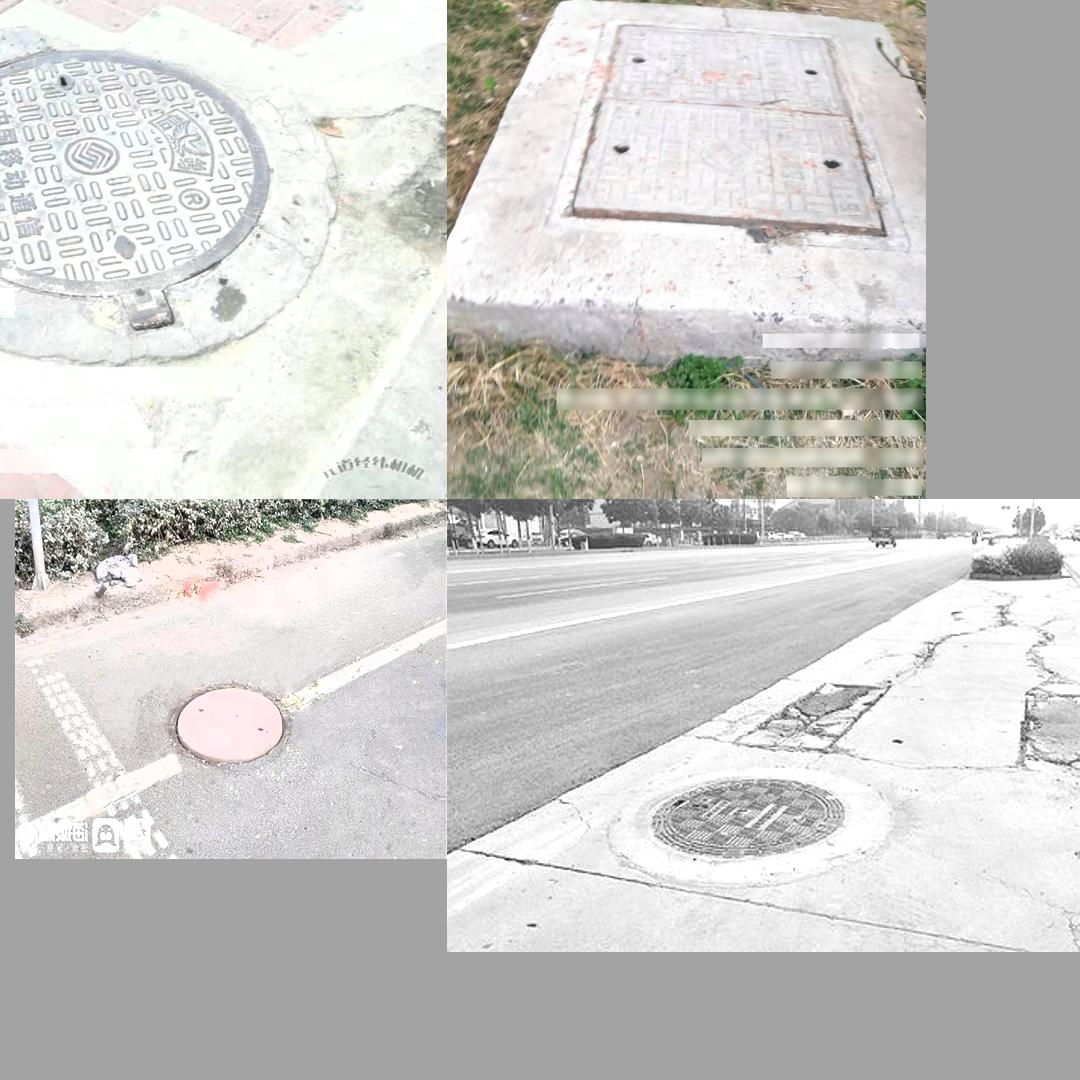good: (540, 20, 908, 245), (0, 47, 278, 335), (598, 763, 890, 887), (156, 673, 295, 772)
